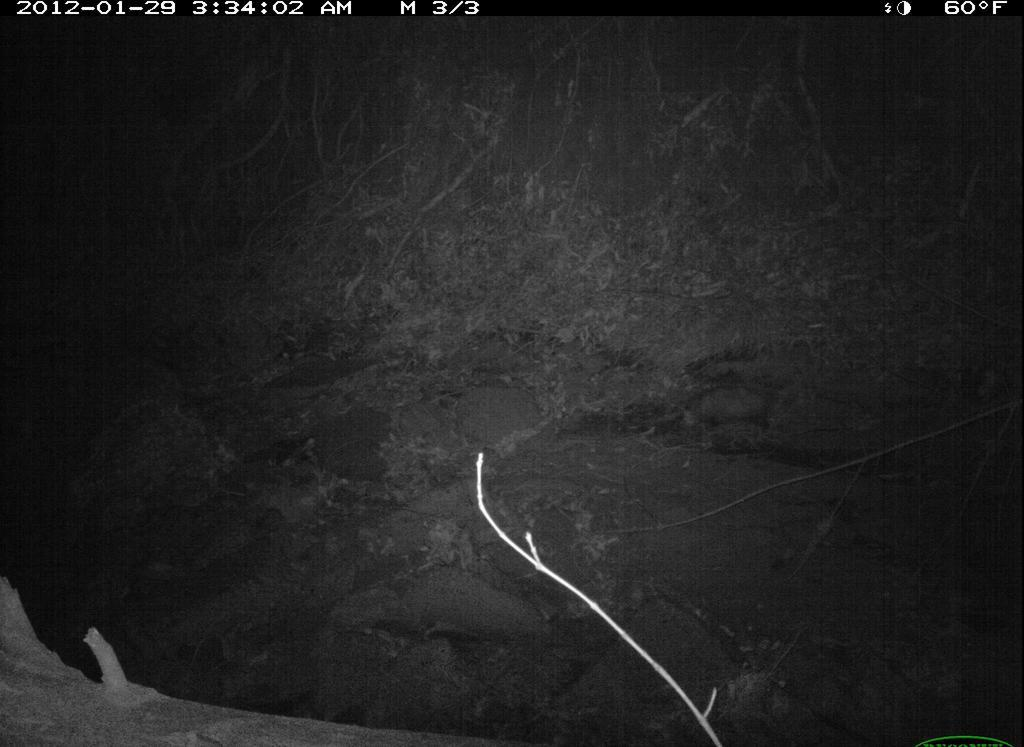opossum: (658, 379, 802, 450)
